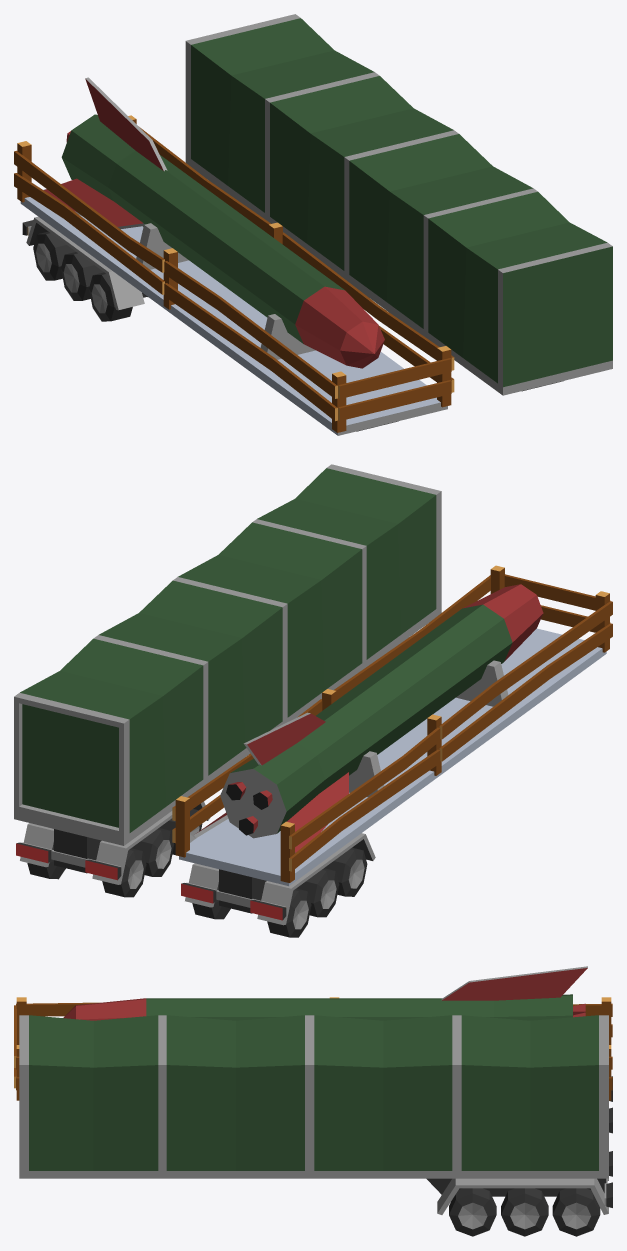
The model's file is trailer.fbx.
The picture shows the model from 3 angles, top to bottom: view 1: azimuth 30°, elevation 25°; view 2: azimuth 150°, elevation 25°; view 3: azimuth 270°, elevation 25°; orthographic projection. The views are drawn at different scales.
Visible parts, largest first — view 1: trailer_02, trailer_01, trailer_wheel_04.001, trailer_wheel_06.001, trailer_wheel_02.001; view 2: trailer_02, trailer_01, trailer_wheel_02.001, trailer_wheel_04.001, trailer_wheel_04, trailer_wheel_06, trailer_wheel_06.001; view 3: trailer_02, trailer_01, trailer_wheel_03, trailer_wheel_01, trailer_wheel_05.
Part boxes in pixels (box(x1,y1,x2,y2)): trailer_02: box(185, 14, 612, 395); trailer_01: box(14, 77, 454, 435); trailer_wheel_04.001: box(61, 252, 103, 300); trailer_wheel_06.001: box(33, 231, 75, 280); trailer_wheel_02.001: box(89, 272, 132, 321); trailer_02: box(14, 464, 441, 884); trailer_01: box(172, 565, 612, 925); trailer_wheel_02.001: box(324, 847, 367, 896); trailer_wheel_04.001: box(296, 868, 339, 917); trailer_wheel_04: box(131, 828, 174, 876); trailer_wheel_06: box(102, 848, 146, 897); trailer_wheel_06.001: box(267, 888, 311, 937); trailer_02: box(19, 1015, 612, 1214); trailer_01: box(14, 966, 612, 1133); trailer_wheel_03: box(501, 1188, 548, 1236); trailer_wheel_01: box(449, 1188, 496, 1236); trailer_wheel_05: box(552, 1188, 600, 1236).
Size of the model in its own units: 10.16 by 3.28 by 5.09.
